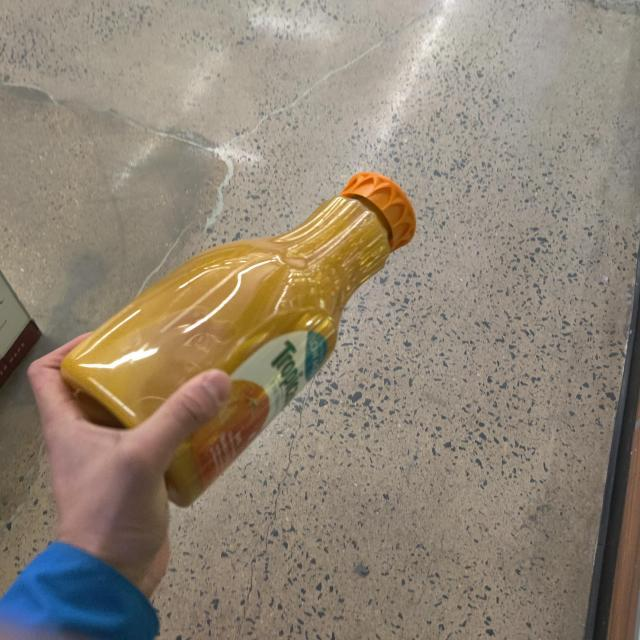Juice: (55, 173, 417, 501)
